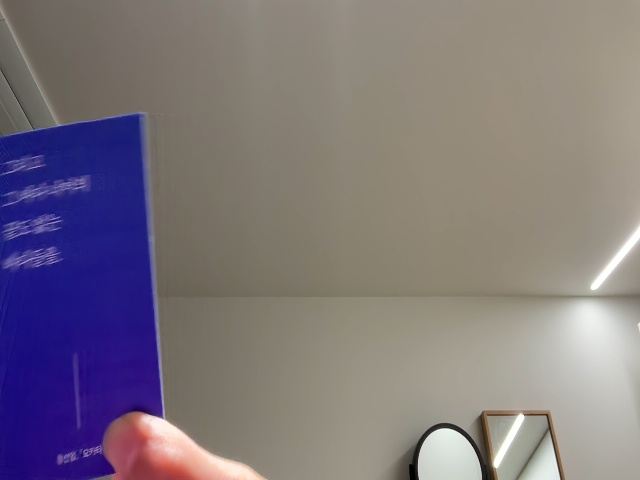card: (1, 114, 166, 480)
